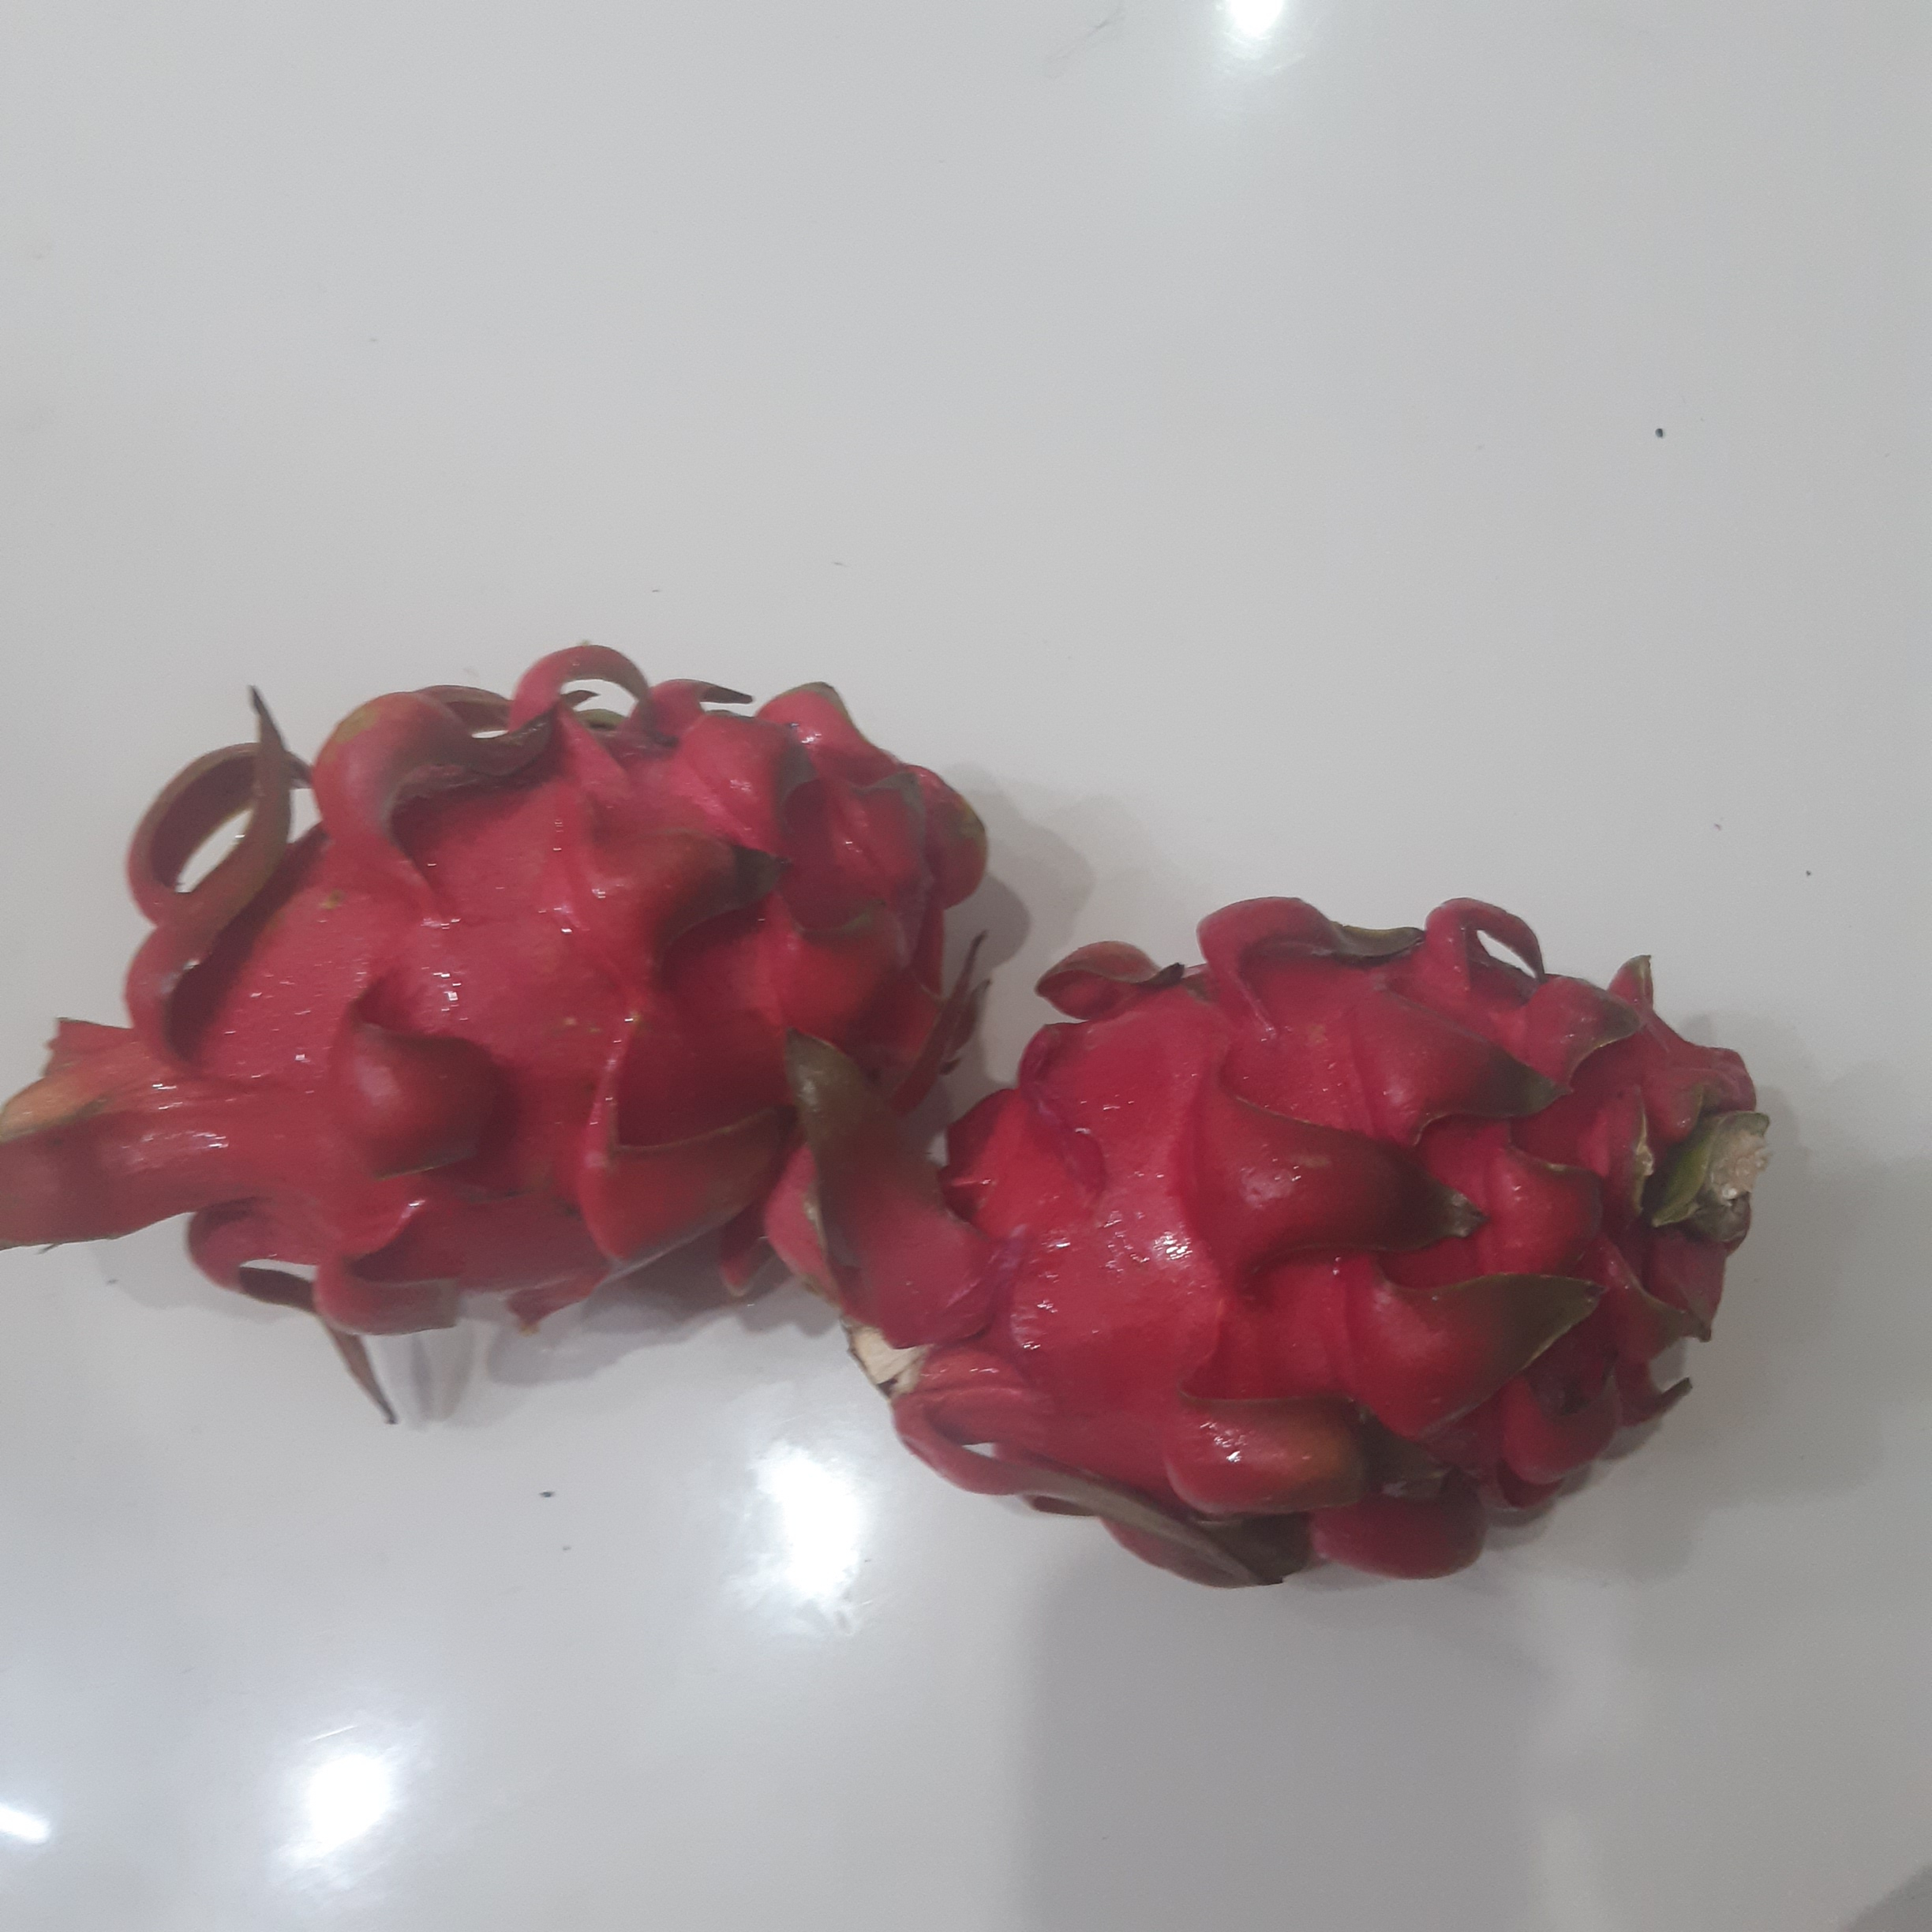Thanh long: (943, 938, 1769, 1589), (149, 718, 982, 1304)
